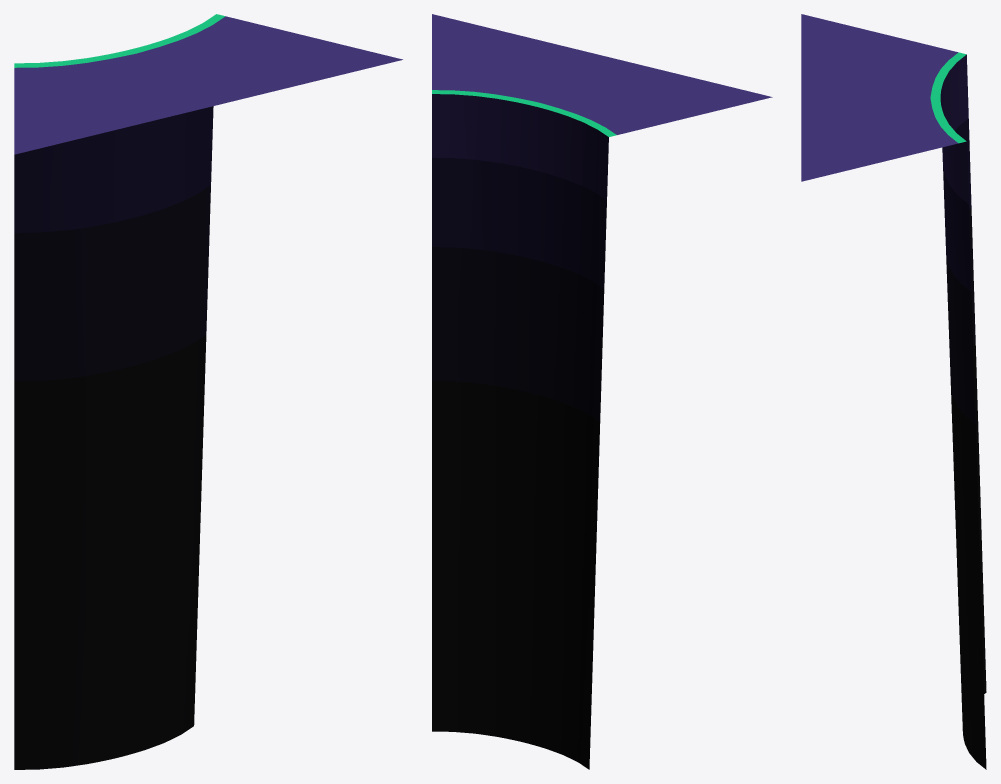
File: MODULE_ALIEN_RIM_SIDE_2.fbx
3 renders of one model, left to right at view 1: azimuth 30°, elevation 25°; view 2: azimuth 150°, elevation 25°; view 3: azimuth 270°, elevation 25°, orthographic. The views are drawn at different scales.
Parts seen in each view (by area): view 1: MODULE_ALIEN_RIM_SIDE_2__export; view 2: MODULE_ALIEN_RIM_SIDE_2__export; view 3: MODULE_ALIEN_RIM_SIDE_2__export.
Part boxes in pixels (x1,y1,x2,y2): MODULE_ALIEN_RIM_SIDE_2__export: (14, 14, 402, 769); MODULE_ALIEN_RIM_SIDE_2__export: (432, 14, 772, 769); MODULE_ALIEN_RIM_SIDE_2__export: (801, 14, 986, 769).
Size of the model in its own units: 100 by 176 by 46.61.
